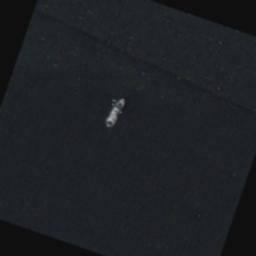boat: (104, 94, 126, 130)
